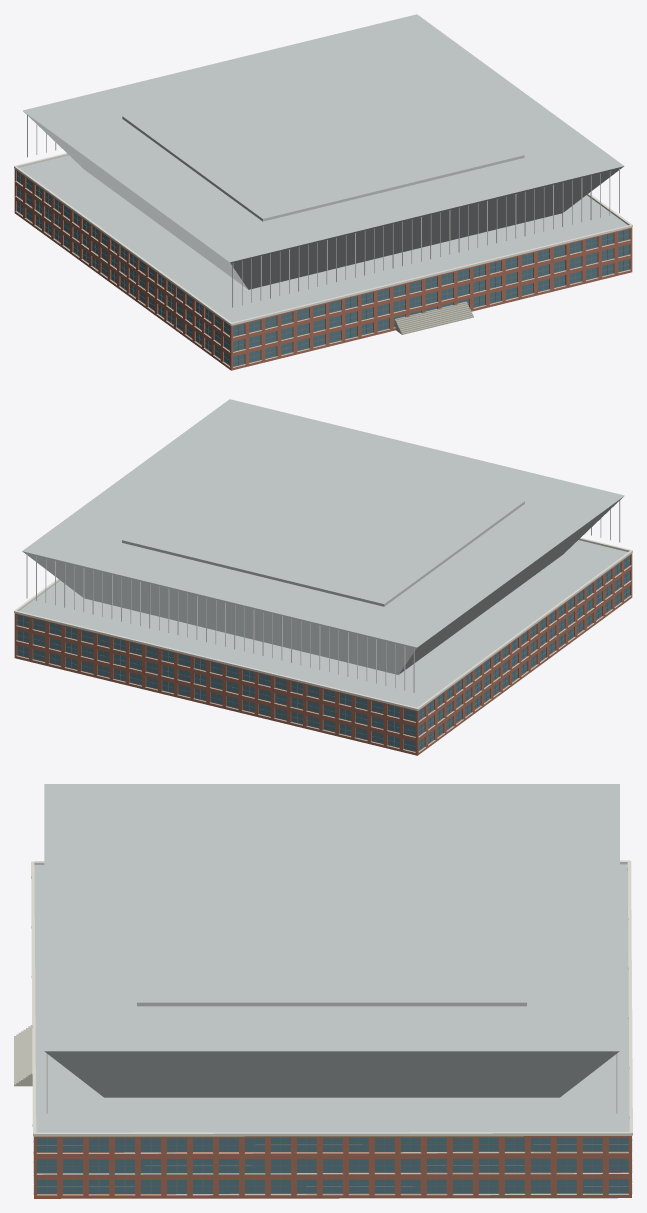
File: gym.glb
3 renders of one model, top to bottom at view 1: azimuth 30°, elevation 25°; view 2: azimuth 150°, elevation 25°; view 3: azimuth 270°, elevation 25°, orthographic. The views are drawn at different scales.
Visible parts, largest first — view 1: roof, wall, glass, trim, metal, paving; view 2: roof, wall, glass, trim, metal; view 3: roof, glass, wall, trim, metal, paving.
Boxes of the visible parts, x1=… form: roof: x1=19, y1=14, x2=627, y2=322; wall: x1=14, y1=169, x2=632, y2=370; glass: x1=17, y1=171, x2=629, y2=366; trim: x1=14, y1=115, x2=632, y2=367; metal: x1=17, y1=174, x2=629, y2=364; paving: x1=394, y1=301, x2=473, y2=334; roof: x1=19, y1=399, x2=627, y2=707; wall: x1=14, y1=553, x2=632, y2=755; glass: x1=17, y1=556, x2=629, y2=751; trim: x1=14, y1=500, x2=632, y2=752; metal: x1=17, y1=558, x2=629, y2=750; roof: x1=34, y1=784, x2=629, y2=1132; glass: x1=37, y1=1137, x2=628, y2=1193; wall: x1=34, y1=1136, x2=631, y2=1198; trim: x1=31, y1=860, x2=632, y2=1195; metal: x1=37, y1=1138, x2=628, y2=1193; paving: x1=14, y1=1025, x2=32, y2=1086.
Size of the model in its own units: 95.6 by 24.2 by 91.41.
